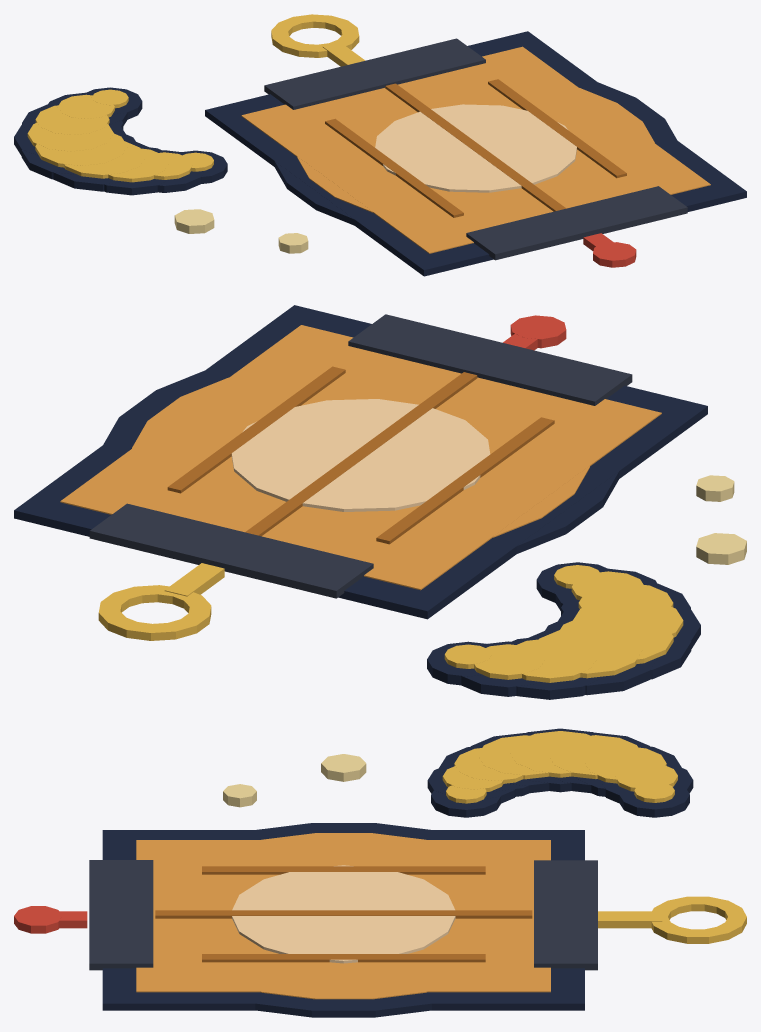
Rendered from CatCafe_Street_DealerCart_RingIcon_Decor.glb.
3 views of the same model, one above another, from view 1: azimuth 30°, elevation 25°; view 2: azimuth 150°, elevation 25°; view 3: azimuth 270°, elevation 25° (orthographic). The views are drawn at different scales.
Parts seen in each view (by area): view 1: CatCafe_Street_DealerCart_RingIcon_Decor; view 2: CatCafe_Street_DealerCart_RingIcon_Decor; view 3: CatCafe_Street_DealerCart_RingIcon_Decor.
Boxes of the visible parts, x1,y1,x2,y2 form: CatCafe_Street_DealerCart_RingIcon_Decor: (14, 14, 746, 276); CatCafe_Street_DealerCart_RingIcon_Decor: (14, 305, 746, 699); CatCafe_Street_DealerCart_RingIcon_Decor: (14, 728, 746, 1017).
Bounding box in the file's own units: 3.53 × 0.0724 × 3.89.
1 material, 1 textured.
